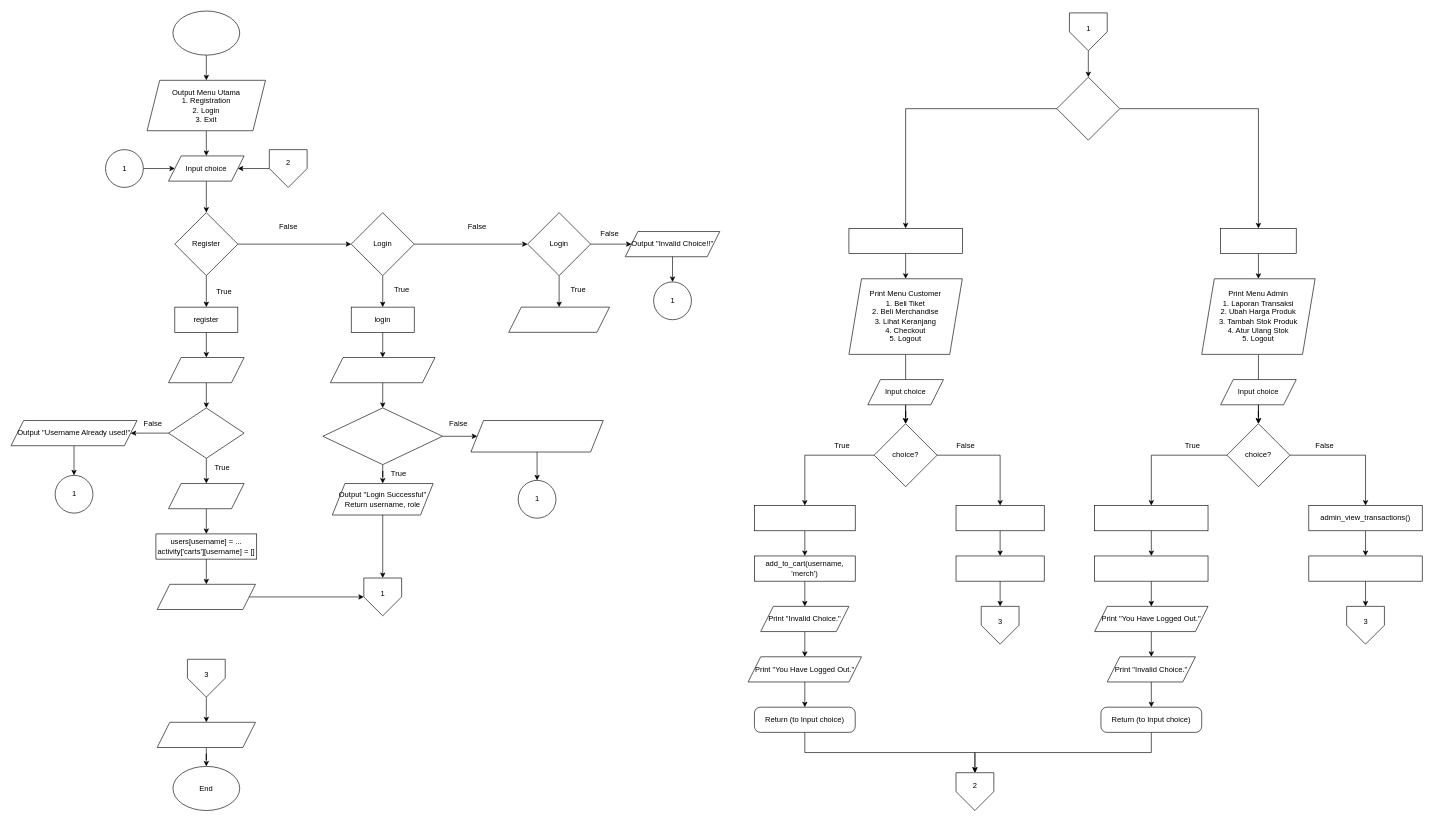
The diagram is 1433 pixels wide and 822 high, and some of its shapes have lost their labels. The box of each missing label's shape, as (x1, y1, x2, y2) in pixels:
add_to_cart(username, 'tiket'): (754, 505, 855, 531)
admin_add_stock(): (1094, 555, 1208, 581)
admin_menu(): (1220, 228, 1296, 254)
admin_set_stock(): (1094, 505, 1208, 531)
admin_update_price(): (1308, 555, 1422, 581)
checkout(username): (955, 555, 1044, 581)
customer_menu(username): (848, 228, 962, 254)
Input password: (168, 483, 244, 509)
Input username: (168, 357, 244, 383)
Input username, password: (330, 357, 435, 383)
Output "Invalid Username or Password!!" Return None, None: (470, 420, 603, 452)
Output "Registration Successful": (157, 584, 255, 610)
Output "Thanks For Using...": (508, 306, 610, 332)
Output "You Have Logged out": (157, 722, 255, 747)
role?: (1056, 77, 1120, 140)
Start: (172, 10, 240, 55)
user_data && pass == user_pass?: (322, 407, 443, 465)
username in users?: (168, 407, 244, 458)
view_cart(username): (955, 505, 1044, 531)
